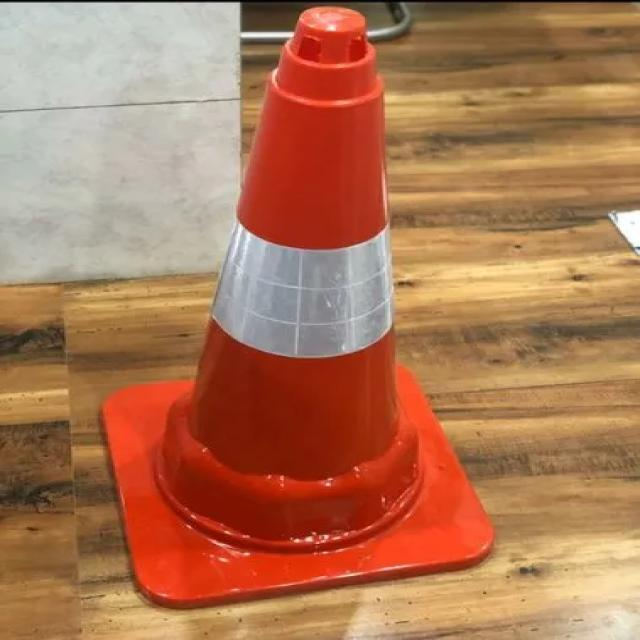Traffic Cone: (86, 3, 516, 640)
